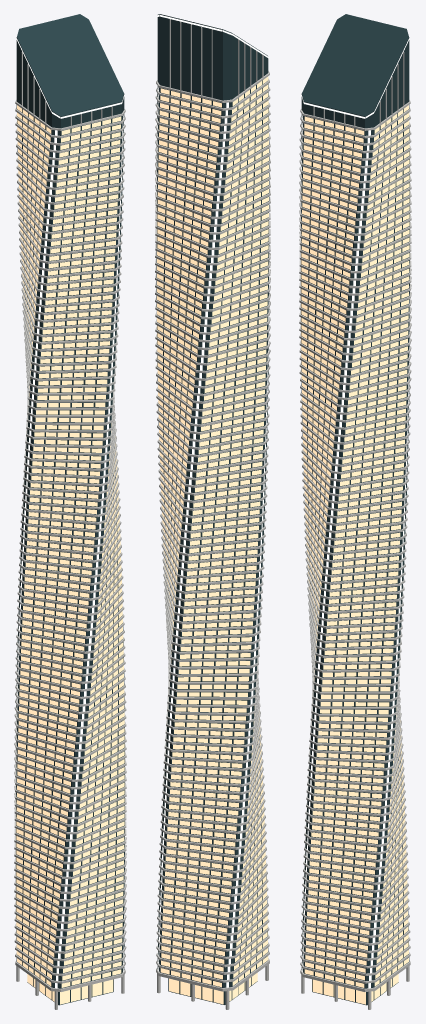
The model's file is twist-tower.glb.
3 renders of one model, left to right at view 1: azimuth 30°, elevation 25°; view 2: azimuth 150°, elevation 25°; view 3: azimuth 330°, elevation 25°, orthographic. The views are drawn at different scales.
Visible parts, largest first — view 1: Windows, Body_Concrete, Body_Glass, Accent, Crown; view 2: Windows, Body_Concrete, Body_Glass, Accent; view 3: Windows, Body_Concrete, Body_Glass, Accent, Crown.
Part boxes in pixels (<box>): Windows: <box>16,105,124,1004</box>; Body_Concrete: <box>14,52,126,1009</box>; Body_Glass: <box>16,14,124,1005</box>; Accent: <box>16,115,125,988</box>; Crown: <box>16,38,124,118</box>; Windows: <box>157,76,268,1004</box>; Body_Concrete: <box>155,19,270,1009</box>; Body_Glass: <box>156,14,269,1004</box>; Accent: <box>156,87,269,987</box>; Windows: <box>301,105,409,1004</box>; Body_Concrete: <box>299,52,411,1009</box>; Body_Glass: <box>301,14,409,1005</box>; Accent: <box>300,115,409,988</box>; Crown: <box>301,38,409,118</box>.
Size of the model in its own units: 5.17 by 48.28 by 5.17.
